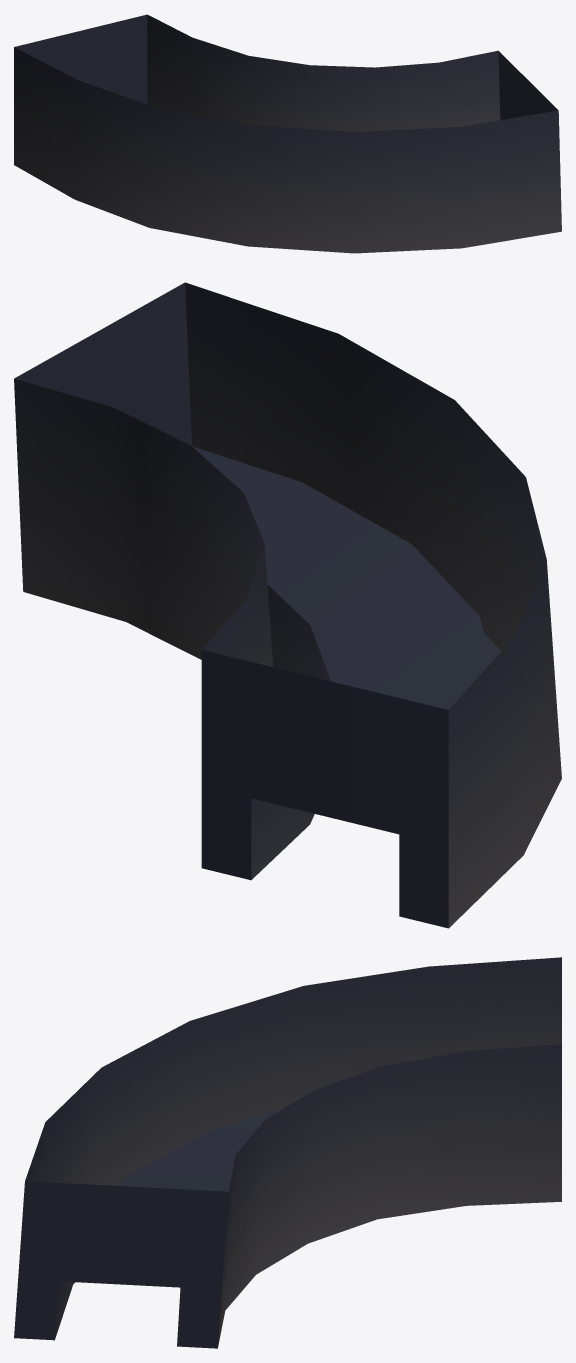
Rendered from Crane_Rail_Bend.fbx.
3 renders of one model, top to bottom at view 1: azimuth 30°, elevation 25°; view 2: azimuth 150°, elevation 25°; view 3: azimuth 270°, elevation 25°, orthographic. The views are drawn at different scales.
Parts seen in each view (by area): view 1: Crane_Rail_Bend; view 2: Crane_Rail_Bend; view 3: Crane_Rail_Bend.
Part boxes in pixels (left/top/right/bottom): Crane_Rail_Bend: left=14, top=14, right=561, bottom=253; Crane_Rail_Bend: left=14, top=282, right=561, bottom=928; Crane_Rail_Bend: left=14, top=957, right=561, bottom=1348.
Bounding box in the file's own units: 157 × 49.32 × 155.
